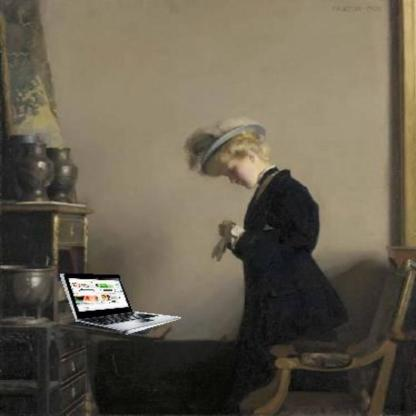board: (58, 271, 183, 333)
